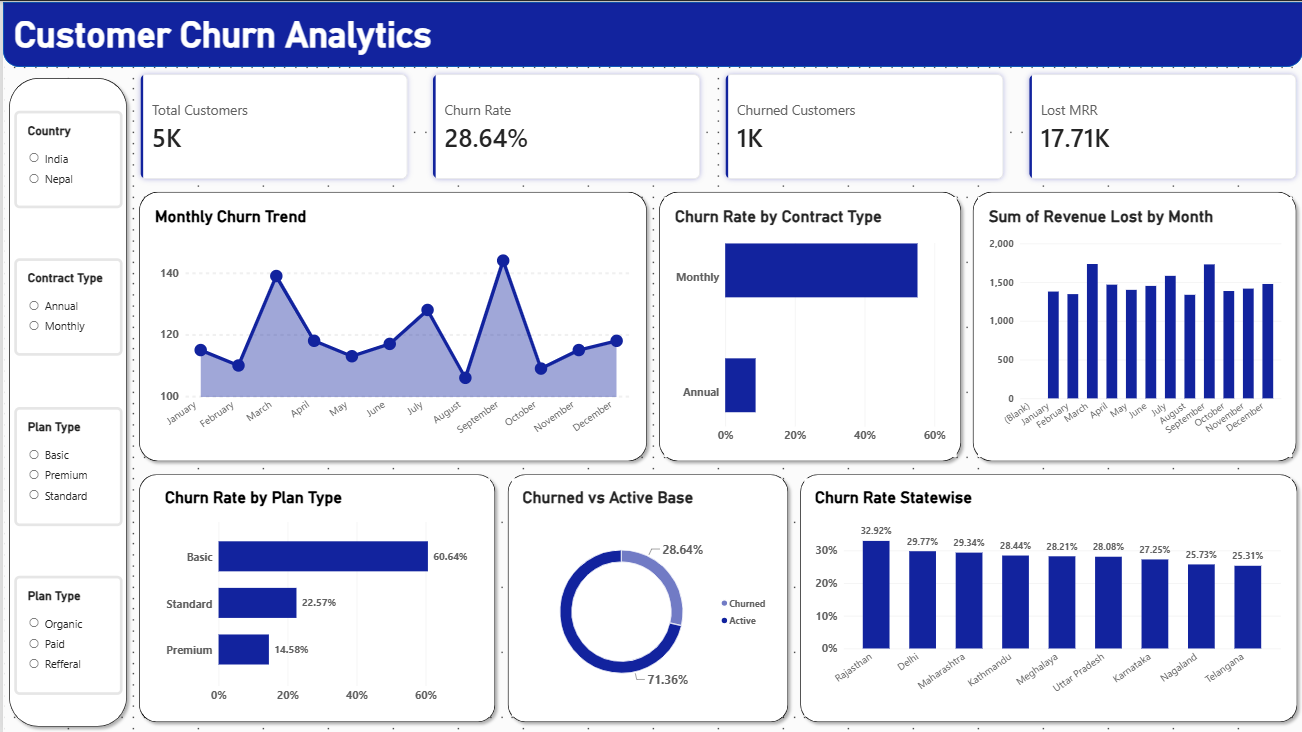

Layout of this report page (visuals, bound fields, positions):
{"tool":"powerbi","page":{"name":"Page 1","canvas":[1920,1080],"ordinal":0},"visuals":[{"type":"shape","box":[192,272,768,416],"z":0},{"type":"shape","box":[0,104,192,976],"z":2000},{"type":"cardVisual","fields":{"Data":["churn_5000.total_customers"]},"box":[192,96,416,176],"z":3000},{"type":"cardVisual","fields":{"Data":["churn_5000.churn_rate"]},"box":[624,96,416,176],"z":4000},{"type":"cardVisual","fields":{"Data":["churn_5000.churned_customers"]},"box":[1056,96,432,176],"z":5000},{"type":"cardVisual","fields":{"Data":["Sum(churn_5000.Revenue Lost)"]},"box":[1504,96,416,176],"z":6000},{"type":"lineChart","title":"Monthly Churn Trend","fields":{"Category":["churn_5000.cancellation_date.Variation.Date Hierarchy.Month"],"Y":["churn_5000.churned_customers"]},"box":[208,288,736,384],"z":7000},{"type":"shape","box":[960,272,464,416],"z":8000},{"type":"clusteredBarChart","title":"Churn Rate by Contract Type","fields":{"Category":["churn_5000.contract_type"],"Y":["churn_5000.churn_rate"]},"box":[976,288,432,384],"z":9000},{"type":"shape","box":[192,688,544,384],"z":10000},{"type":"shape","box":[1168,688,752,384],"z":11000},{"type":"clusteredBarChart","title":"Churn Rate by Plan Type","fields":{"Category":["churn_5000.plan_type"],"Y":["churn_5000.churn_rate"]},"box":[224,704,496,352],"z":12000},{"type":"shape","box":[736,688,432,384],"z":13000},{"type":"donutChart","title":"Churned vs Active Base","fields":{"Y":["churn_5000.churned_customers","churn_5000.active_customers"]},"box":[752,704,400,352],"z":14000},{"type":"clusteredColumnChart","title":"Churn Rate Statewise","fields":{"Category":["churn_5000.state"],"Y":["churn_5000.churn_rate"]},"box":[1184,704,720,352],"z":15000},{"type":"shape","box":[1424,272,496,416],"z":16000},{"type":"clusteredColumnChart","fields":{"Category":["churn_5000.cancellation_date.Variation.Date Hierarchy.Month"],"Y":["Sum(churn_5000.Revenue Lost)"]},"box":[1440,288,464,384],"z":17000},{"type":"listSlicer","title":"Country","fields":{"Values":["churn_5000.country"]},"box":[16,160,160,144],"z":18000},{"type":"listSlicer","title":"Contract Type","fields":{"Values":["churn_5000.contract_type"]},"box":[16,378.7,160,144],"z":19000},{"type":"listSlicer","title":"Plan Type","fields":{"Values":["churn_5000.plan_type"]},"box":[16,597.3,160,176],"z":20000},{"type":"shape","box":[0,0,1920,96],"z":21000},{"type":"listSlicer","title":"Plan Type","fields":{"Values":["churn_5000.subscription_type"]},"box":[16,848,160,176],"z":22000},{"type":"textbox","box":[16,16,640,80],"z":22500}]}

Visuals, with their boxes in screenshot pixels (x1, y1, x2, y2), scaled from the page's 1920x1080 canvas onto the 1302x732 screenshot:
shape: (x1=130, y1=184, x2=651, y2=466)
shape: (x1=0, y1=70, x2=130, y2=731)
cardVisual - churn_5000.total_customers: (x1=130, y1=65, x2=412, y2=184)
cardVisual - churn_5000.churn_rate: (x1=423, y1=65, x2=705, y2=184)
cardVisual - churn_5000.churned_customers: (x1=716, y1=65, x2=1009, y2=184)
cardVisual - Sum(churn_5000.Revenue Lost): (x1=1020, y1=65, x2=1301, y2=184)
"Monthly Churn Trend" lineChart: (x1=141, y1=195, x2=640, y2=455)
shape: (x1=651, y1=184, x2=966, y2=466)
"Churn Rate by Contract Type" clusteredBarChart: (x1=662, y1=195, x2=955, y2=455)
shape: (x1=130, y1=466, x2=499, y2=727)
shape: (x1=792, y1=466, x2=1301, y2=727)
"Churn Rate by Plan Type" clusteredBarChart: (x1=152, y1=477, x2=488, y2=716)
shape: (x1=499, y1=466, x2=792, y2=727)
"Churned vs Active Base" donutChart: (x1=510, y1=477, x2=781, y2=716)
"Churn Rate Statewise" clusteredColumnChart: (x1=803, y1=477, x2=1291, y2=716)
shape: (x1=966, y1=184, x2=1301, y2=466)
clusteredColumnChart - churn_5000.cancellation_date.Variation.Date Hierarchy.Month x Sum(churn_5000.Revenue Lost): (x1=976, y1=195, x2=1291, y2=455)
"Country" listSlicer: (x1=11, y1=108, x2=119, y2=206)
"Contract Type" listSlicer: (x1=11, y1=257, x2=119, y2=354)
"Plan Type" listSlicer: (x1=11, y1=405, x2=119, y2=524)
shape: (x1=0, y1=0, x2=1301, y2=65)
"Plan Type" listSlicer: (x1=11, y1=575, x2=119, y2=694)
textbox: (x1=11, y1=11, x2=445, y2=65)
